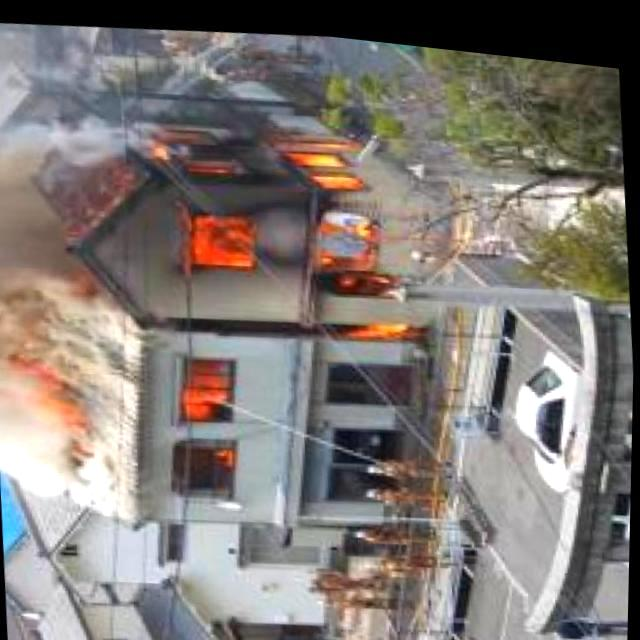fire: (128, 86, 444, 364), (8, 308, 98, 472), (180, 349, 252, 505)
